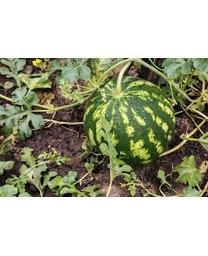watermelon: (84, 77, 177, 167)
